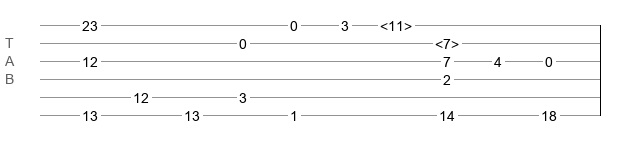0: (239, 36, 247, 46), (290, 18, 298, 28), (545, 54, 553, 64)
1: (290, 108, 298, 118)
12: (82, 54, 98, 64), (133, 90, 149, 100)
13: (82, 108, 98, 118), (184, 108, 200, 118)
14: (439, 108, 455, 118)
18: (541, 108, 557, 118)
2: (443, 72, 451, 82)
23: (82, 18, 98, 28)
3: (239, 90, 247, 100), (341, 18, 349, 28)
4: (494, 54, 502, 64)
7: (443, 54, 451, 64)
harmonic: (380, 18, 412, 28), (435, 36, 459, 46)
